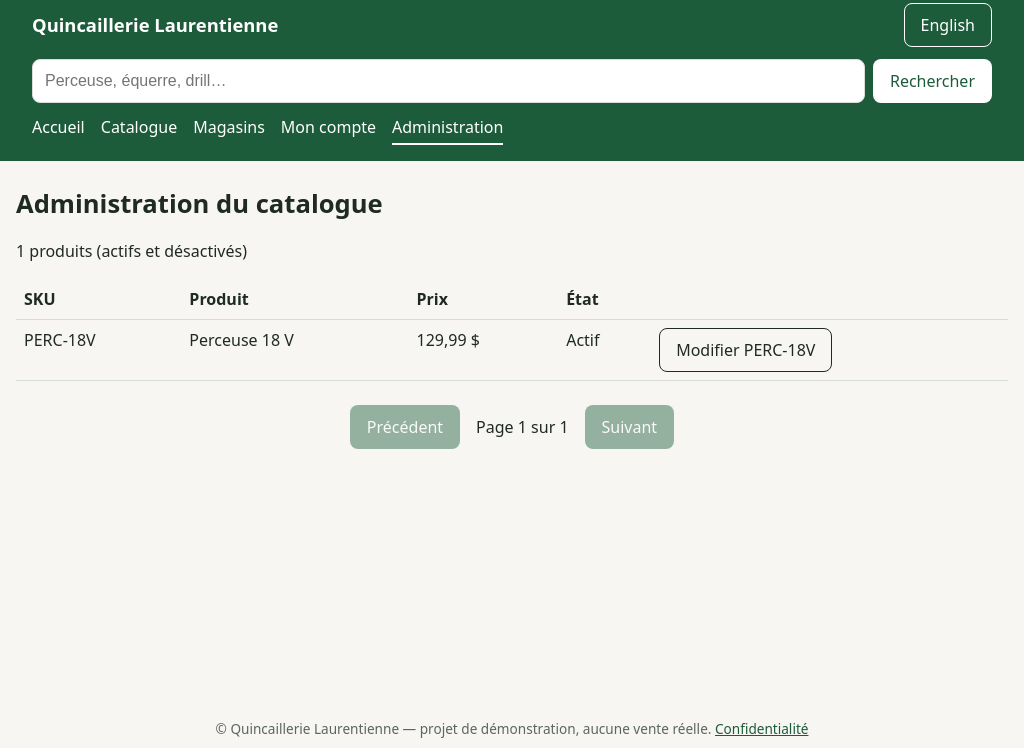
it: Administration du catalogue (A-ADM-01) › liste les produits et enregistre le nom, le prix et l'activation
The width and height of the screenshot is (1024, 748).
Expected: the text "Perceuse 18 V" is shown, [181, 320, 408, 381]
Expected: the text "1 produits (actifs et désactivés)" is shown, [16, 240, 247, 262]
Click the button "Modifier PERC-18V": point(746, 350) [659, 328, 832, 372]
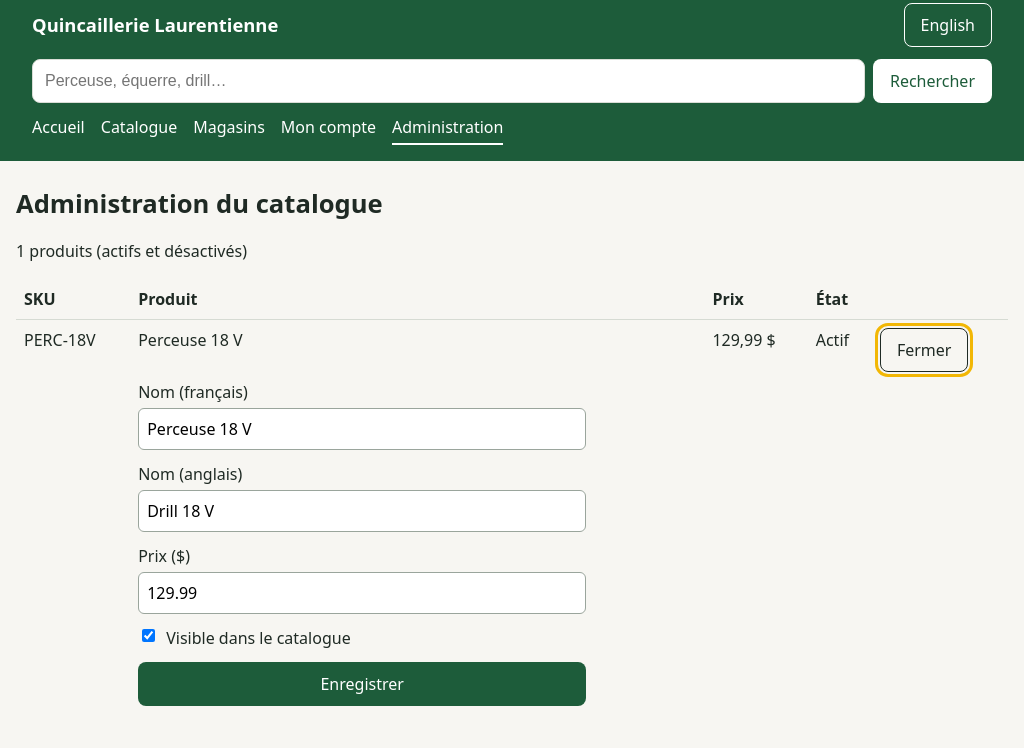
Replace the text in the field labelled "Prix ($)" with "109,50": point(362, 593) [138, 572, 586, 614]
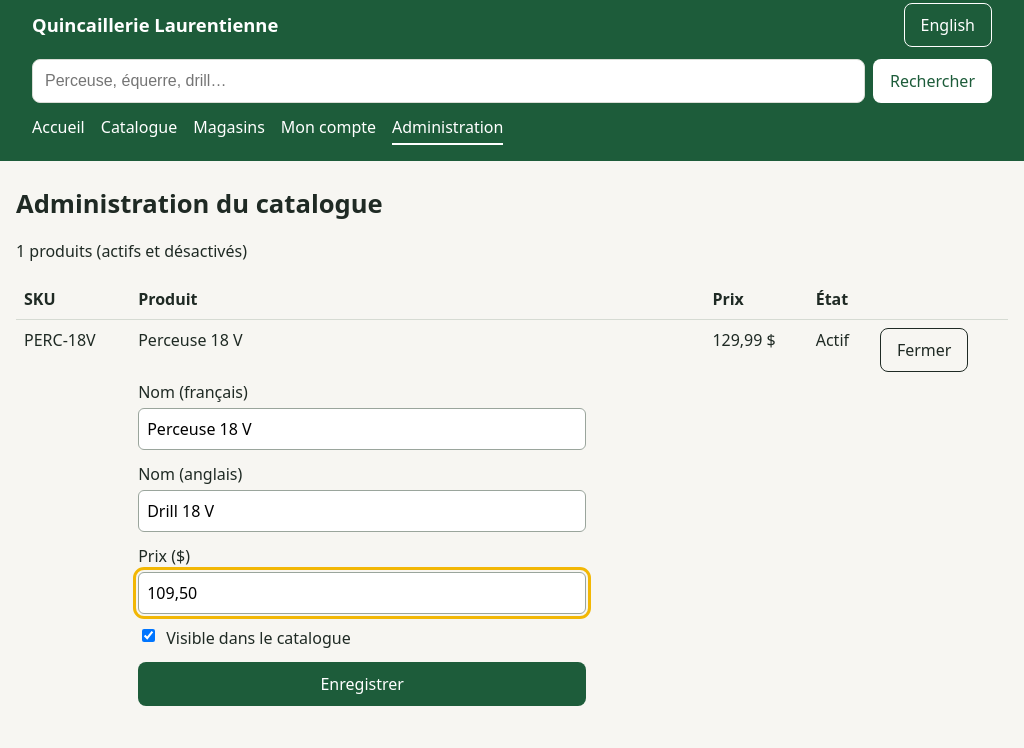
Click the checkbox labelled "Visible dans le catalogue": point(149, 636) [142, 629, 155, 642]
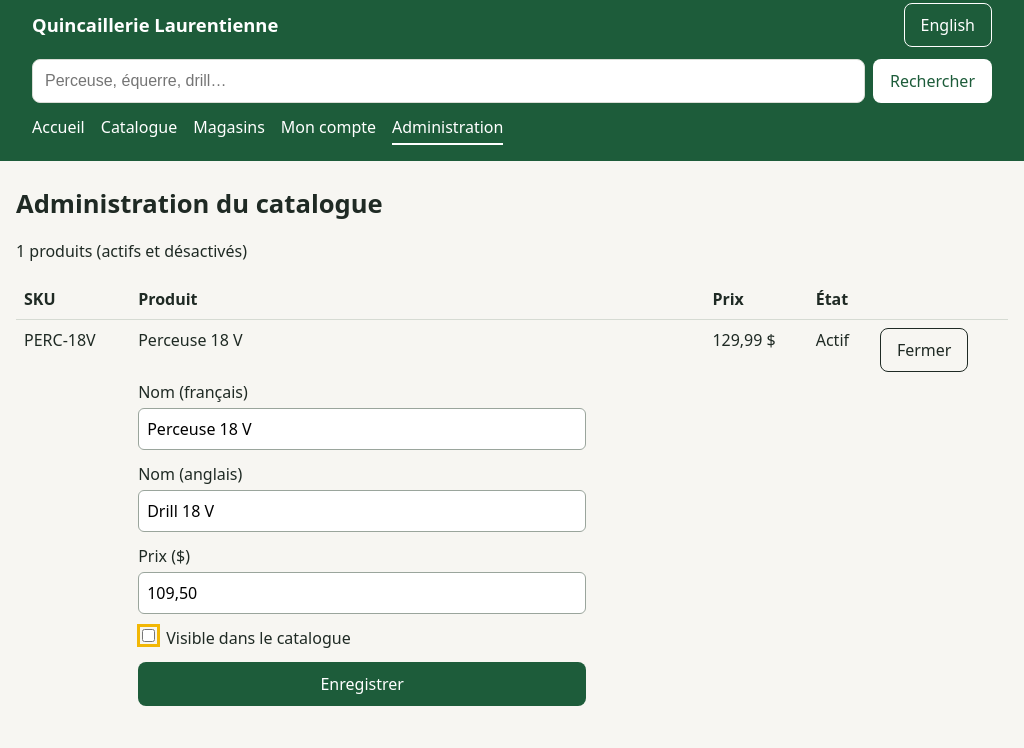
Click the button "Enregistrer": point(362, 684) [138, 662, 586, 706]
(page scrolled)
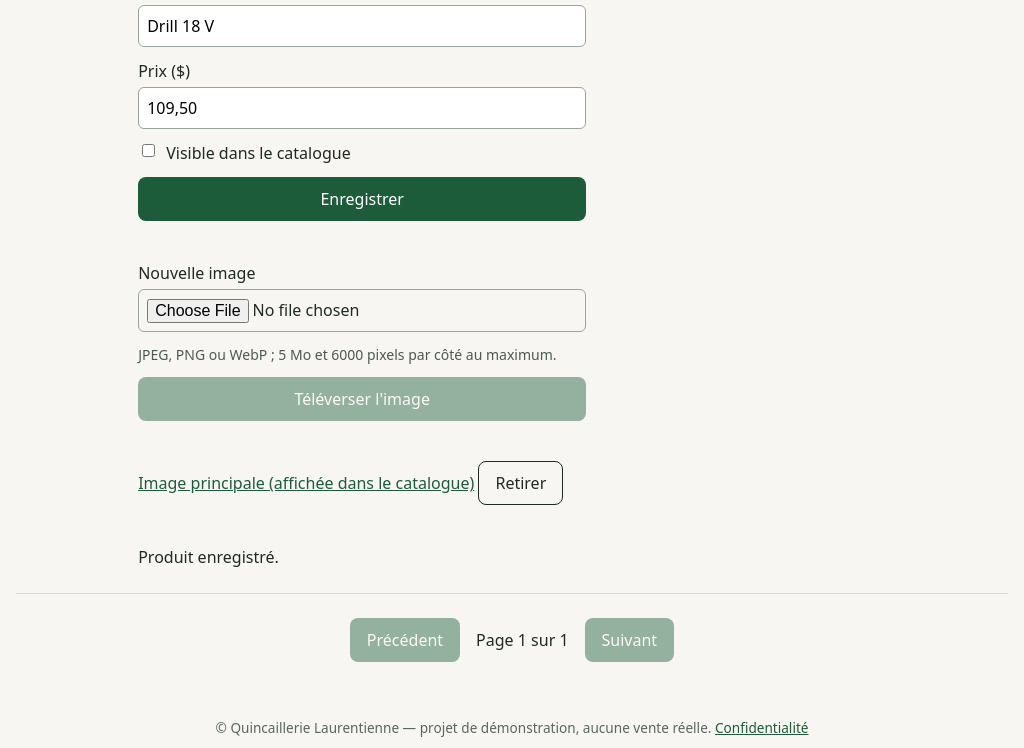
Now the text "Produit enregistré." is shown, box [138, 546, 279, 568]
